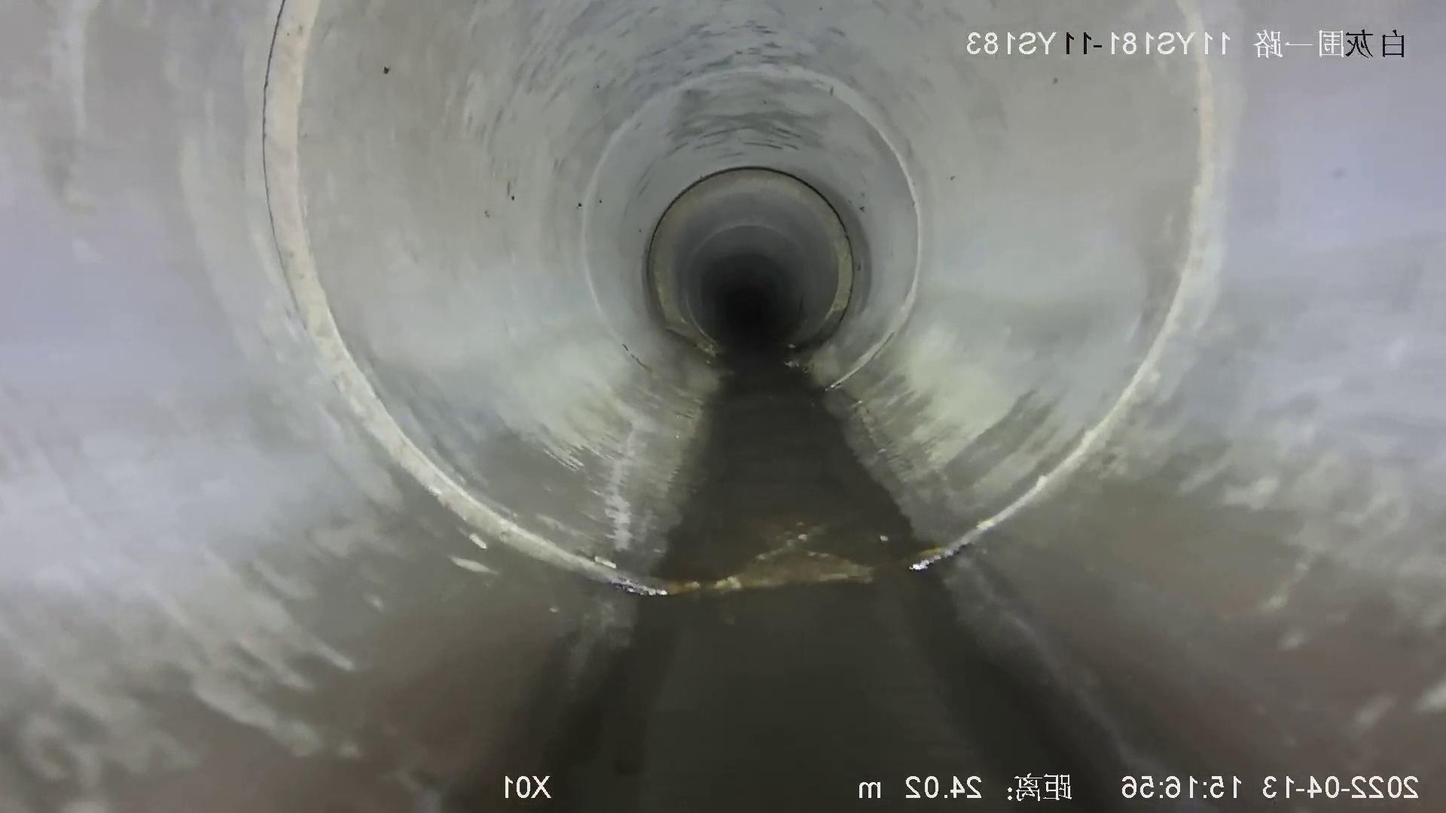CKTJ: (262, 0, 669, 595), (897, 0, 1220, 582), (637, 157, 868, 377)
